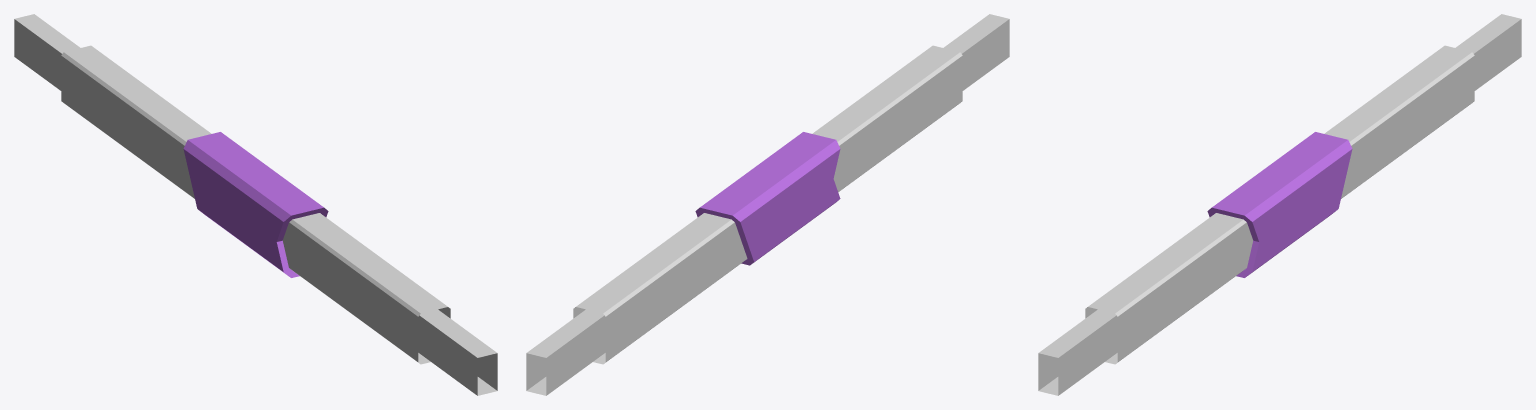
The model's file is StationShip Engine.glb.
3 renders of one model, left to right at view 1: azimuth 30°, elevation 25°; view 2: azimuth 150°, elevation 25°; view 3: azimuth 330°, elevation 25°, orthographic.
Parts seen in each view (by area): view 1: ShipThrusterBack, ShipThrusterFront, Origin ShipThrusterBase; view 2: ShipThrusterFront, ShipThrusterBack, Origin ShipThrusterBase; view 3: ShipThrusterBack, ShipThrusterFront, Origin ShipThrusterBase.
Part boxes in pixels (x1=…): ShipThrusterBack: x1=282, y1=213, x2=497, y2=395; ShipThrusterFront: x1=14, y1=14, x2=211, y2=198; Origin ShipThrusterBase: x1=183, y1=132, x2=328, y2=277; ShipThrusterFront: x1=526, y1=213, x2=747, y2=395; ShipThrusterBack: x1=812, y1=14, x2=1009, y2=191; Origin ShipThrusterBase: x1=695, y1=132, x2=840, y2=265; ShipThrusterBack: x1=1038, y1=213, x2=1253, y2=395; ShipThrusterFront: x1=1324, y1=14, x2=1521, y2=198; Origin ShipThrusterBase: x1=1207, y1=132, x2=1352, y2=277.
Size of the model in its own units: 1.5 by 2 by 26.83.
